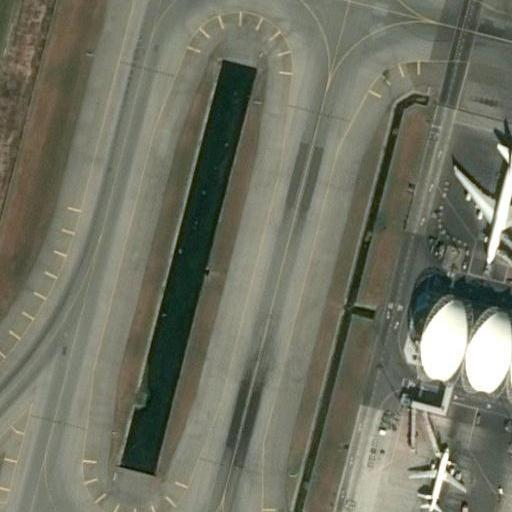Aircraft: (446, 130, 512, 266), (402, 446, 466, 512)
